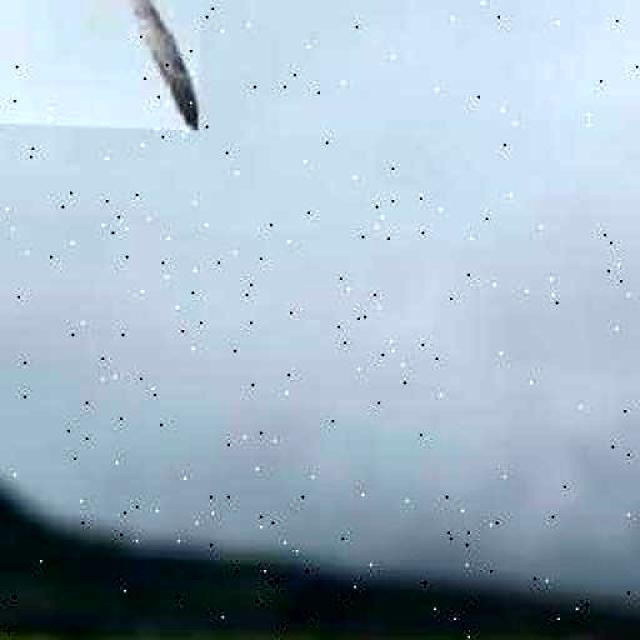airplane: (0, 0, 208, 130)
